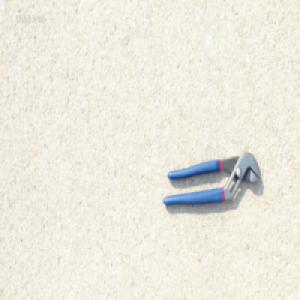Pliers: (162, 148, 262, 207)
